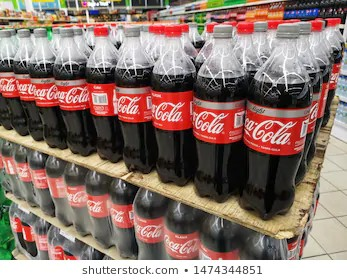coke-bottle-2l: (238, 24, 312, 219), (193, 25, 249, 200), (154, 16, 196, 183), (54, 28, 96, 157), (117, 27, 152, 170), (86, 21, 121, 161), (28, 29, 62, 152), (85, 168, 115, 251), (164, 202, 202, 261), (108, 178, 135, 261), (62, 157, 89, 238)
